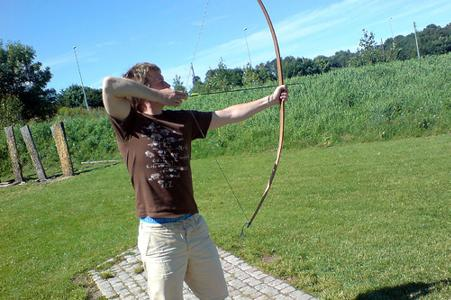person: (103, 59, 294, 299)
